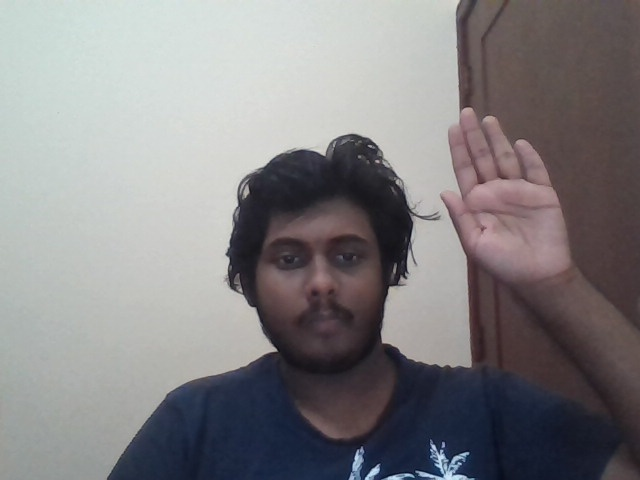hello: (440, 106, 574, 286)
